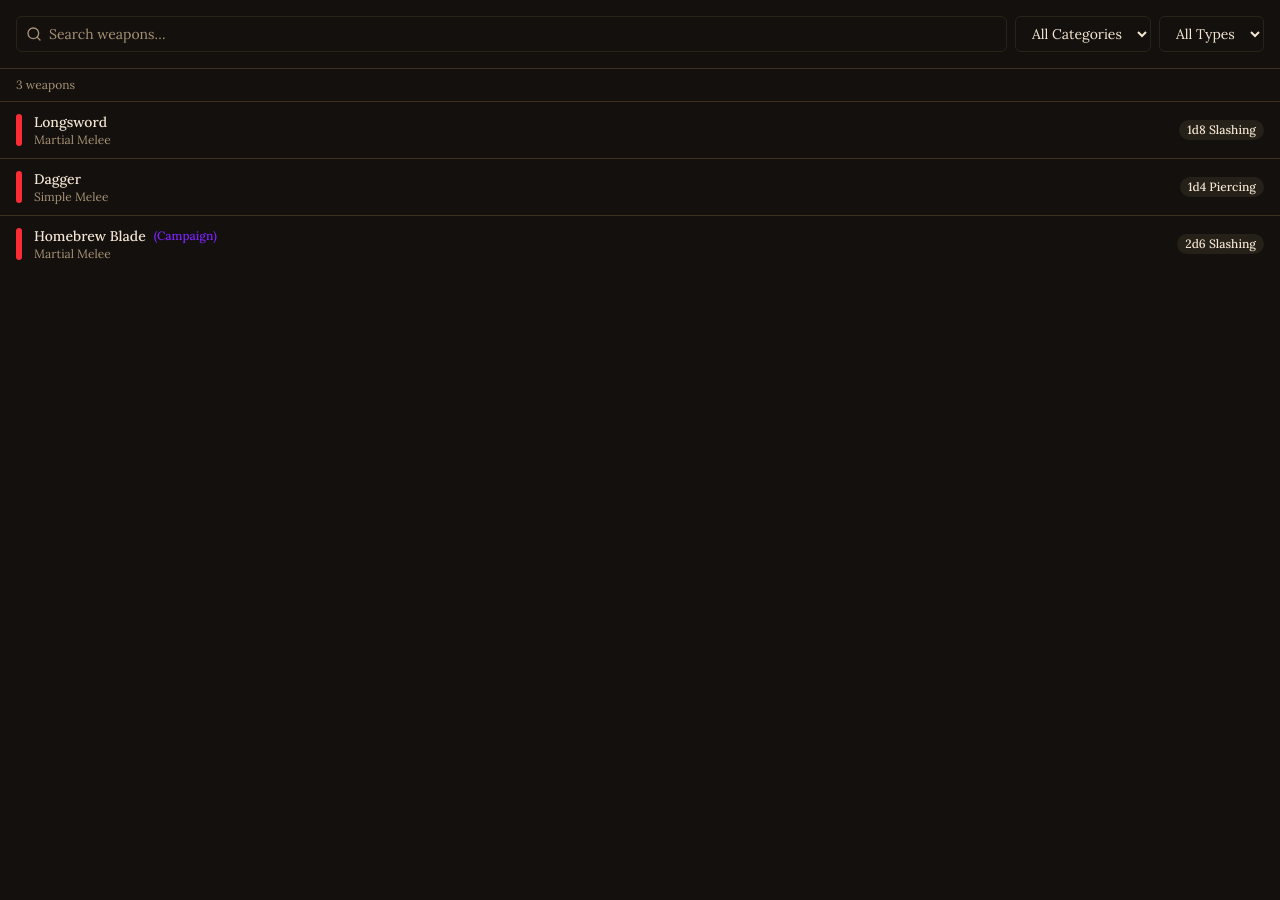
ItemsTab › shows Override button for system items when GM
The width and height of the screenshot is (1280, 900).
Expected: the text "Longsword" is shown, left=34, top=112, right=107, bottom=132
Step 1. Click the button with test id "item-row-1" → (71, 122), box left=0, top=102, right=1279, bottom=159
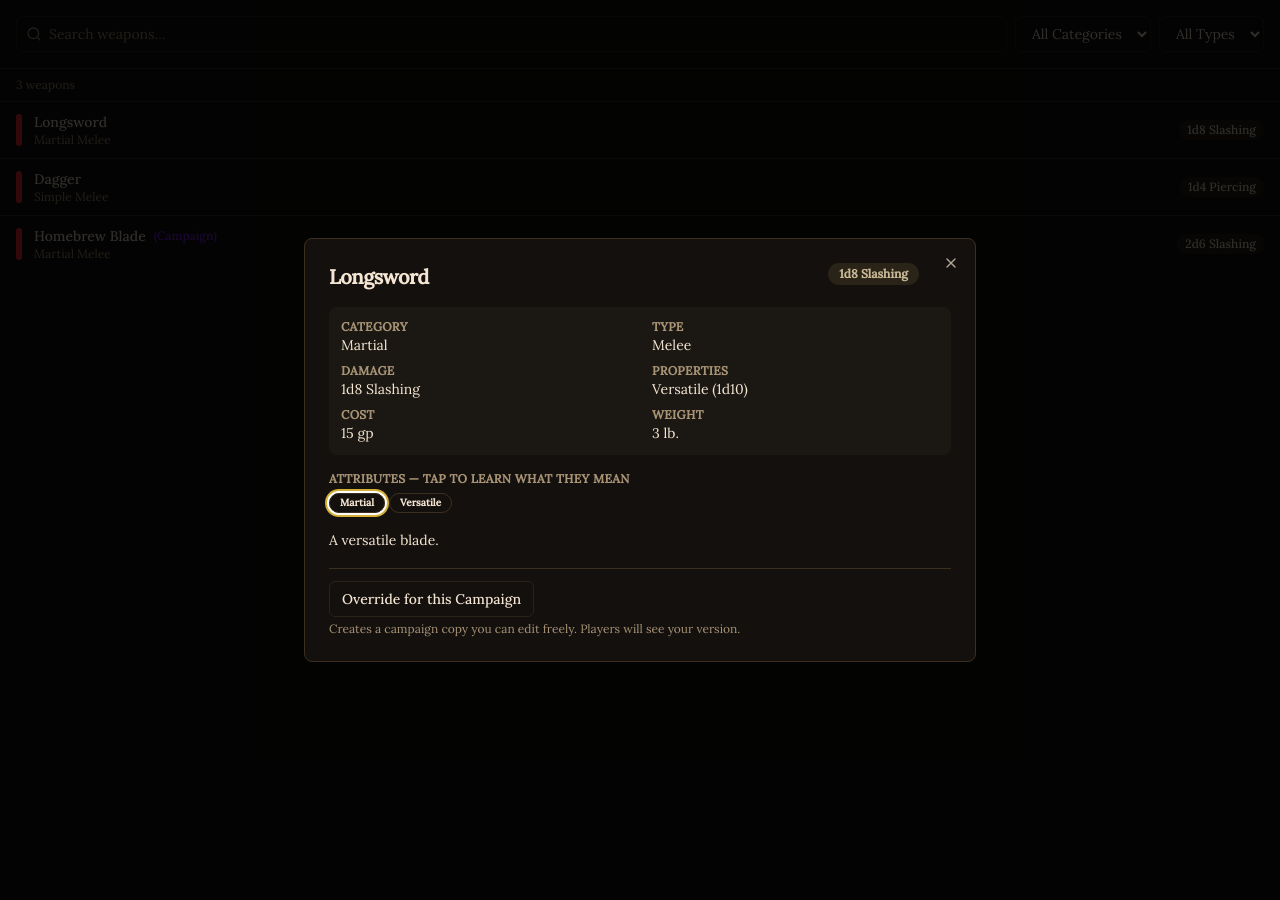
Result: the button with test id "override-item-btn" is shown at left=329, top=581, right=534, bottom=617
